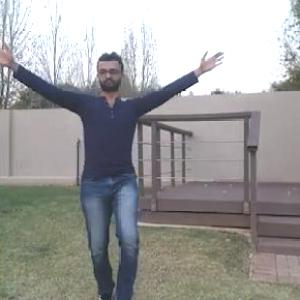takeoff: (0, 47, 228, 299)
